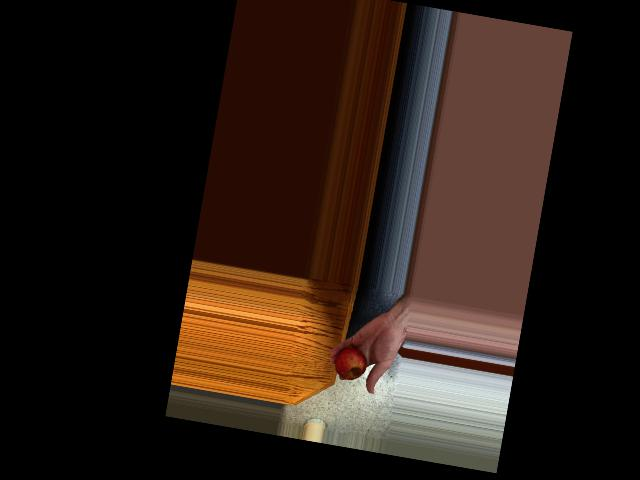apple: (332, 342, 372, 383)
